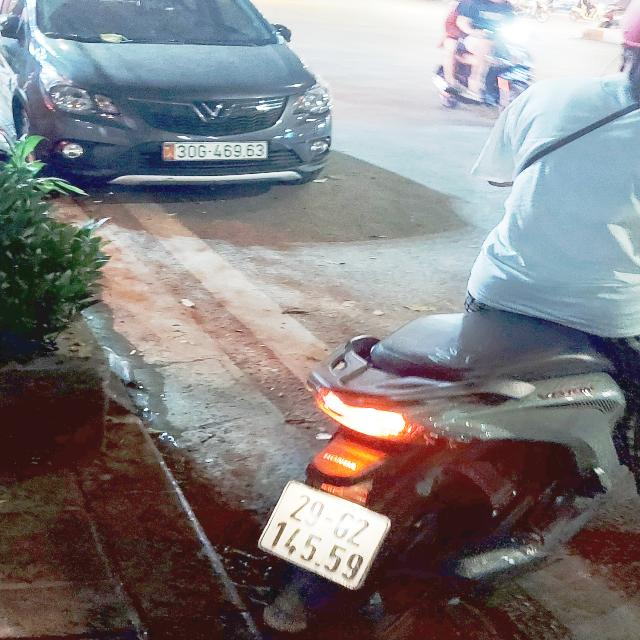license_plate: (258, 483, 389, 592), (165, 143, 268, 161)
